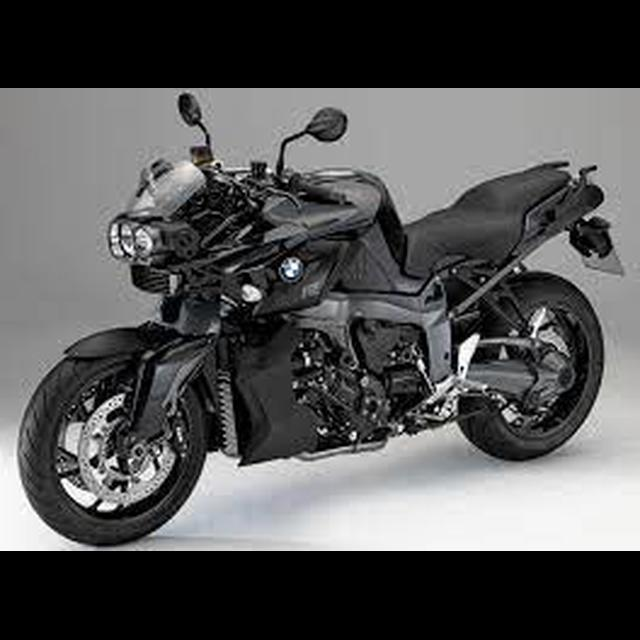motorcycle: (19, 91, 625, 551)
